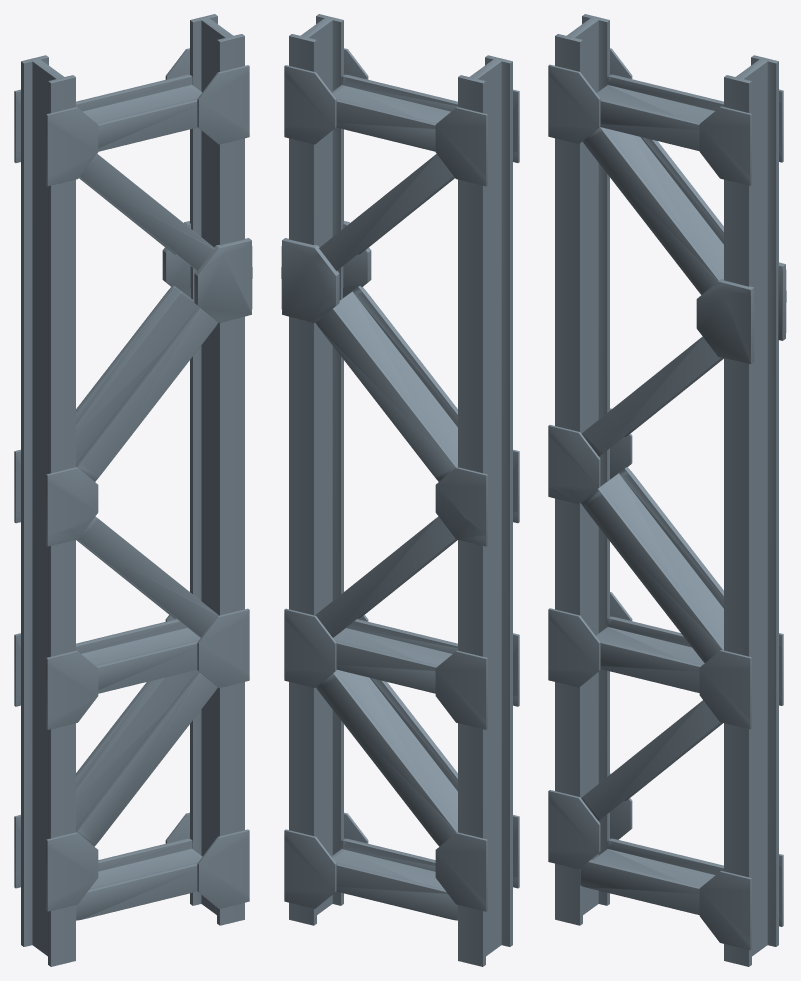
File: metalBeam.fbx
3 renders of one model, left to right at view 1: azimuth 30°, elevation 25°; view 2: azimuth 150°, elevation 25°; view 3: azimuth 330°, elevation 25°, orthographic.
Visible parts, largest first — view 1: trussUpright.020, trussUpright.010, trussUpright.009, trussUpright.012, trussUpright.011; view 2: trussUpright.020, trussUpright.010, trussUpright.009, trussUpright.012; view 3: trussUpright.020, trussUpright.009, trussUpright.010, trussUpright.012, trussUpright.011.
Boxes of the visible parts, <box> form: trussUpright.020: <box>14,48,252,908</box>; trussUpright.010: <box>21,55,75,966</box>; trussUpright.009: <box>190,14,244,925</box>; trussUpright.012: <box>76,838,202,920</box>; trussUpright.011: <box>46,832,98,911</box>; trussUpright.020: <box>281,48,519,911</box>; trussUpright.010: <box>458,55,512,966</box>; trussUpright.009: <box>289,14,343,925</box>; trussUpright.012: <box>331,838,457,920</box>; trussUpright.020: <box>548,48,786,950</box>; trussUpright.009: <box>724,55,778,966</box>; trussUpright.010: <box>555,14,609,925</box>; trussUpright.012: <box>580,838,723,914</box>; trussUpright.011: <box>548,790,600,869</box>.
Size of the model in its own units: 96.51 by 29.73 by 400.
